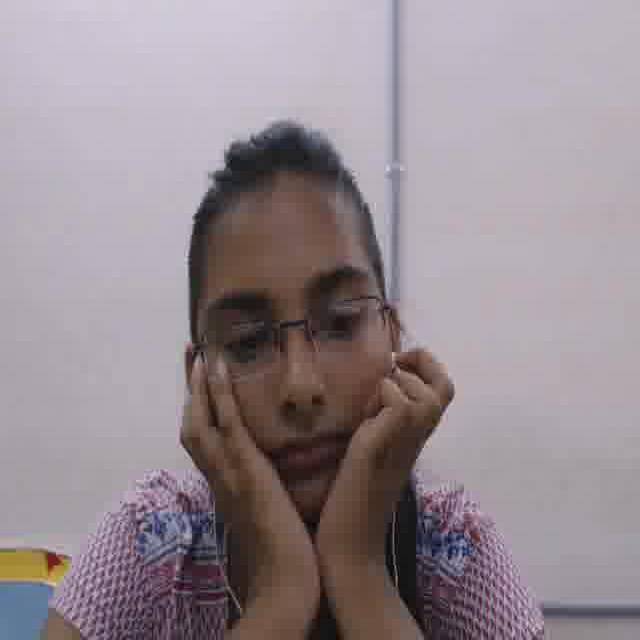Confusion: (197, 202, 385, 518)
